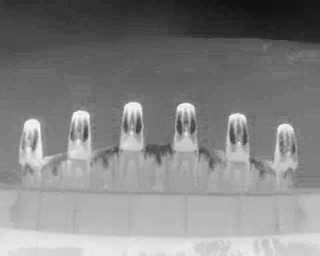claw: (119, 102, 145, 153), (19, 117, 45, 167), (174, 101, 199, 153), (275, 122, 300, 173), (227, 112, 251, 165), (67, 108, 91, 159)
